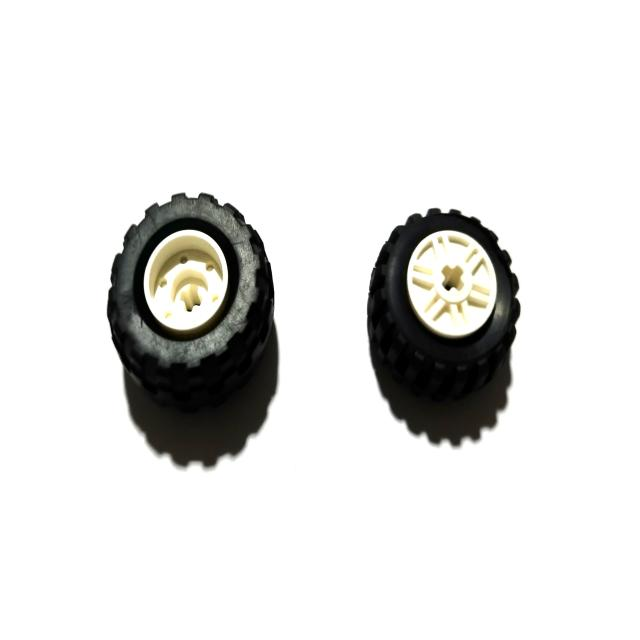Black_Large: (108, 194, 277, 407)
Black_Medium: (368, 209, 522, 448)
